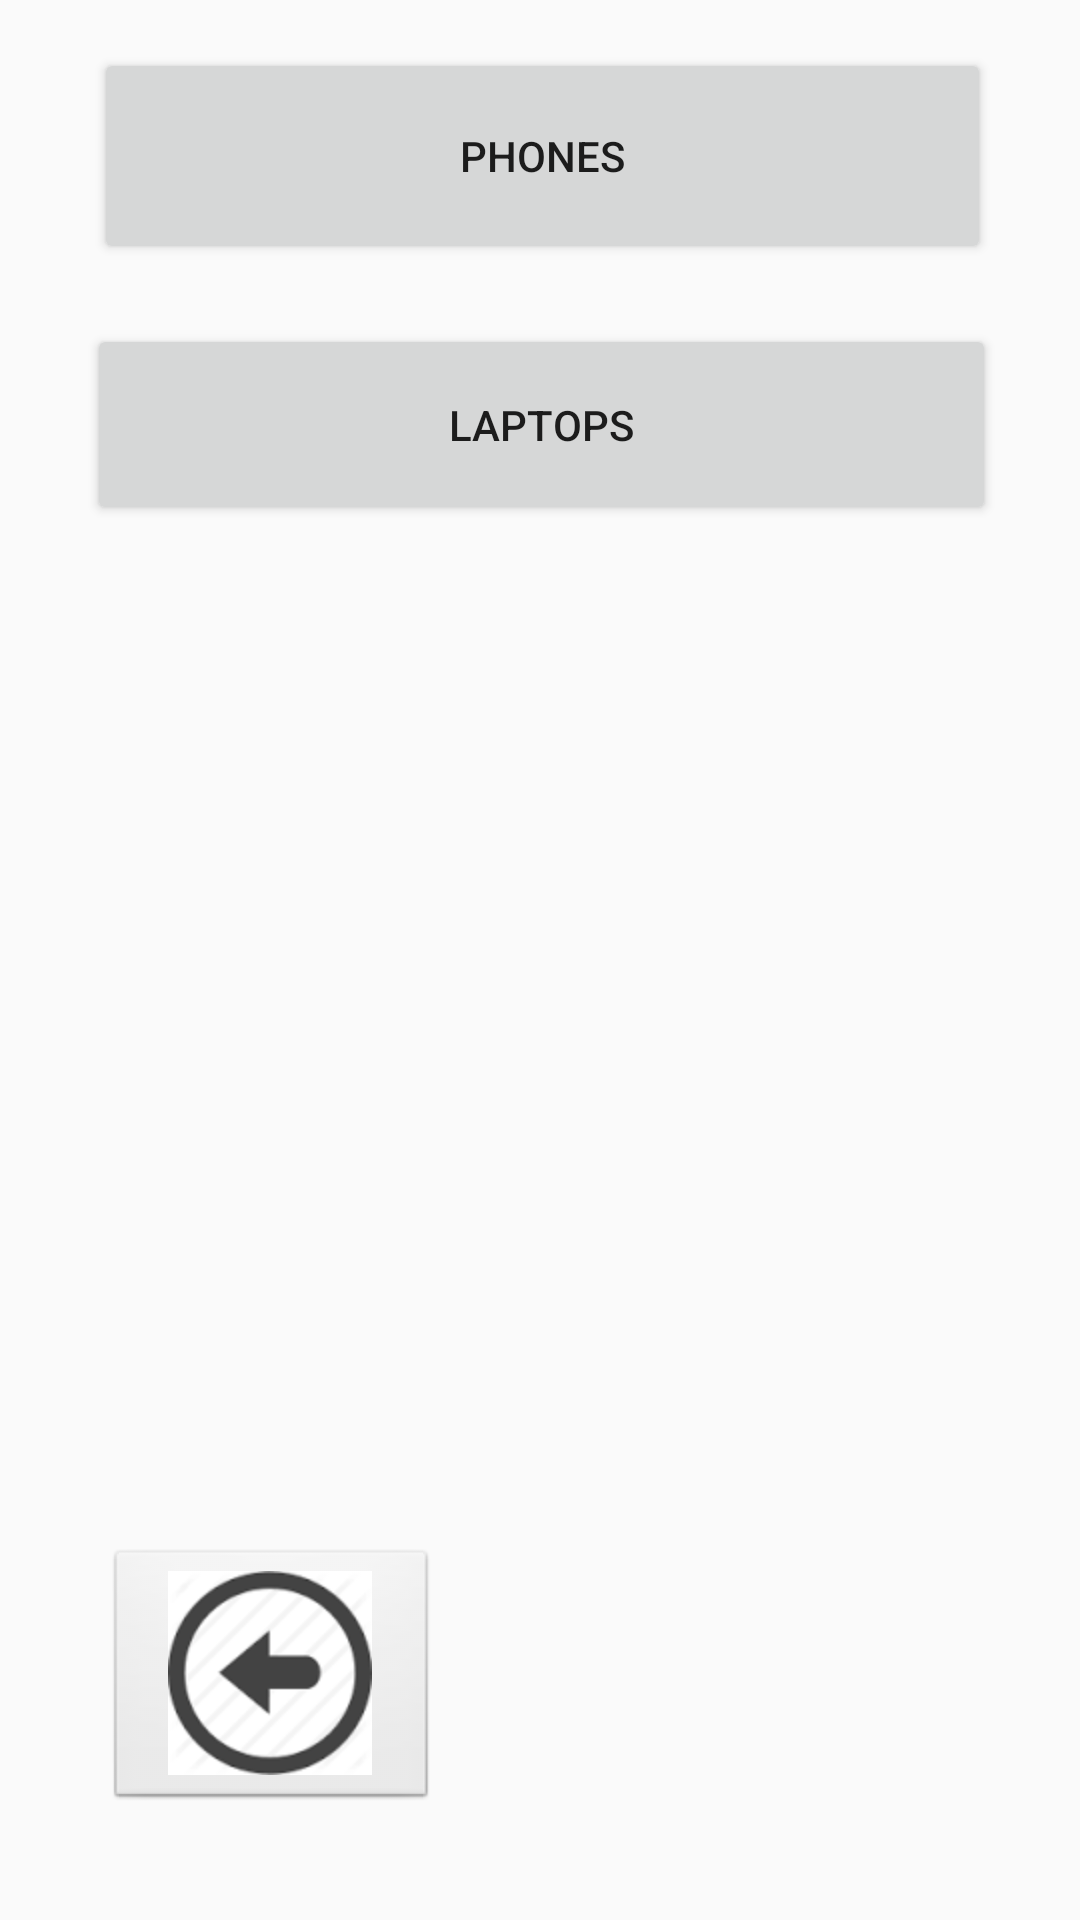

Icon bounding boxes for this 1080 × 1920 phone screenshot, format (x1=x1, y1=y1, x2=x2, y2=y2):
back: (x1=114, y1=1555, x2=428, y2=1798)
